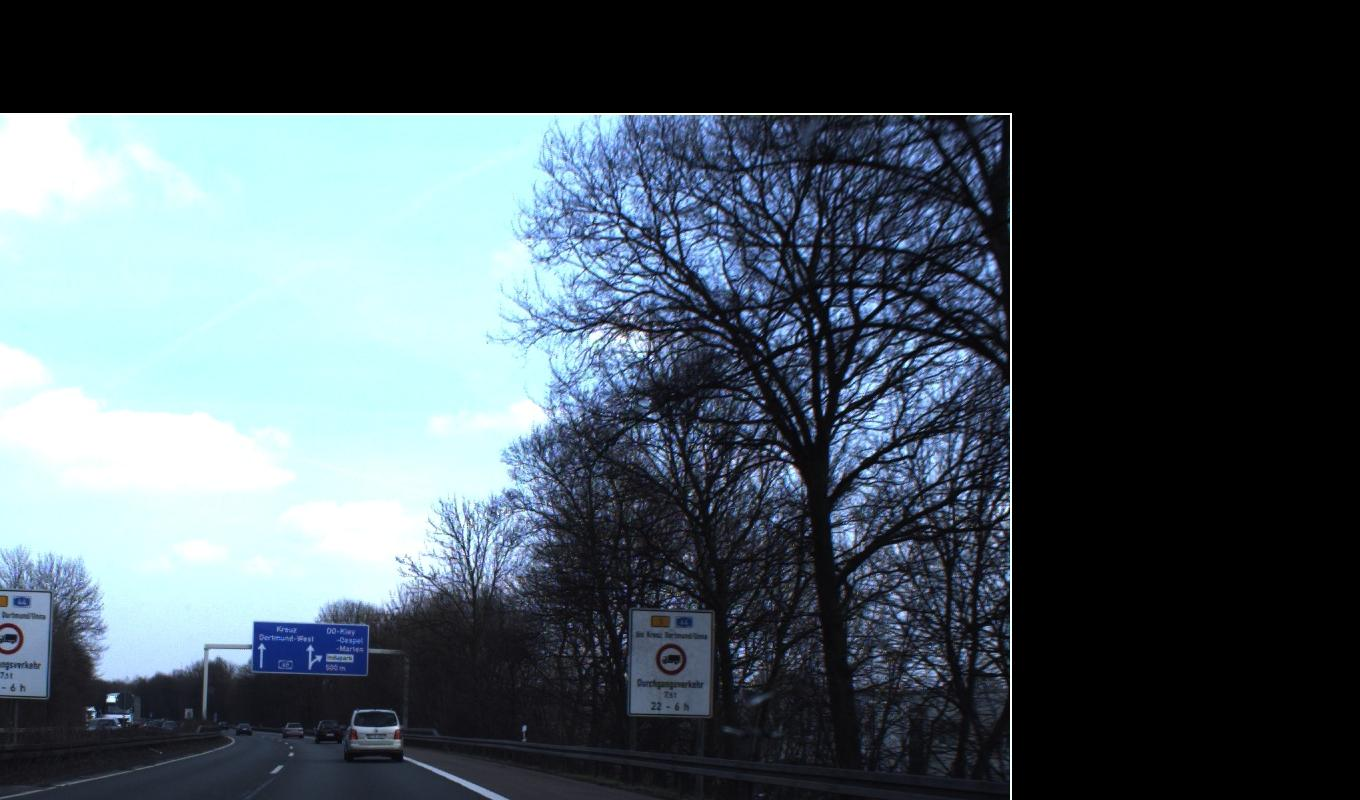no trucks: (0, 622, 687, 676)
